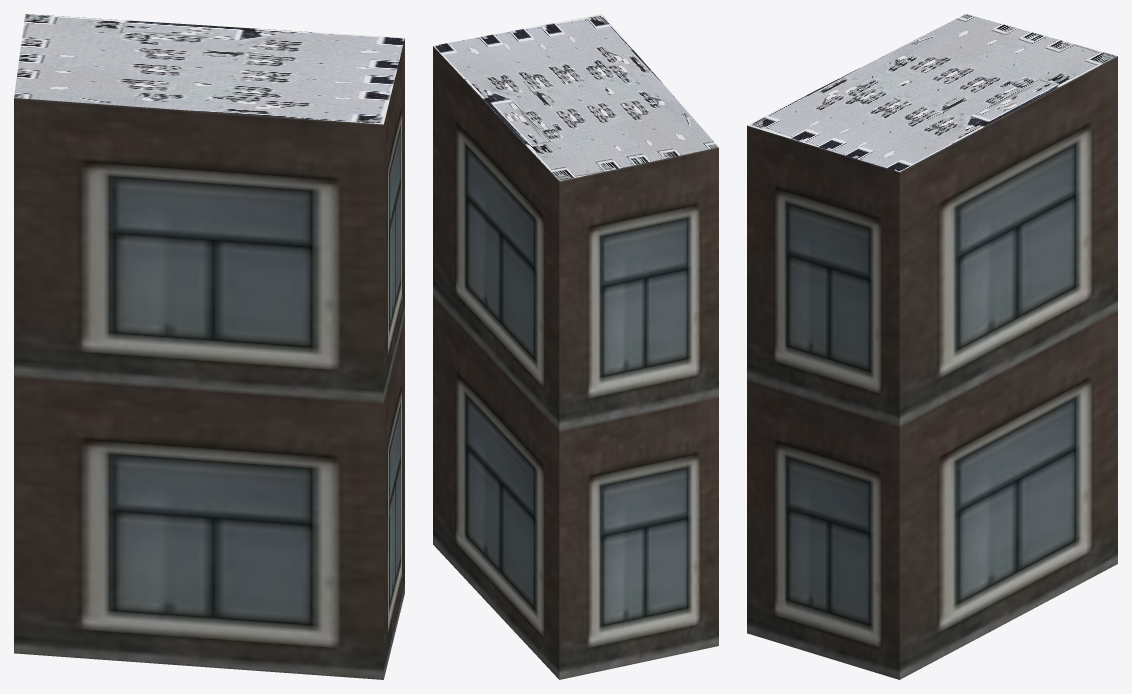
Rendered from ResTex__5080.fbx.
3 views of the same model, side by side, from view 1: azimuth 30°, elevation 25°; view 2: azimuth 150°, elevation 25°; view 3: azimuth 270°, elevation 25° (orthographic). The views are drawn at different scales.
Parts seen in each view (by area): view 1: CityEngineMaterial_16_m, CityEngineMaterial_15_m; view 2: CityEngineMaterial_16_m, CityEngineMaterial_15_m; view 3: CityEngineMaterial_16_m, CityEngineMaterial_15_m.
Part boxes in pixels (x1,y1,x2,y2): CityEngineMaterial_16_m: [14, 38, 404, 679]; CityEngineMaterial_15_m: [14, 14, 404, 124]; CityEngineMaterial_16_m: [433, 46, 718, 679]; CityEngineMaterial_15_m: [433, 14, 718, 181]; CityEngineMaterial_16_m: [747, 56, 1117, 679]; CityEngineMaterial_15_m: [747, 14, 1117, 171].
Size of the model in its own units: 4.01 by 6 by 3.97.
Materials: 2 (2 with a texture image).
